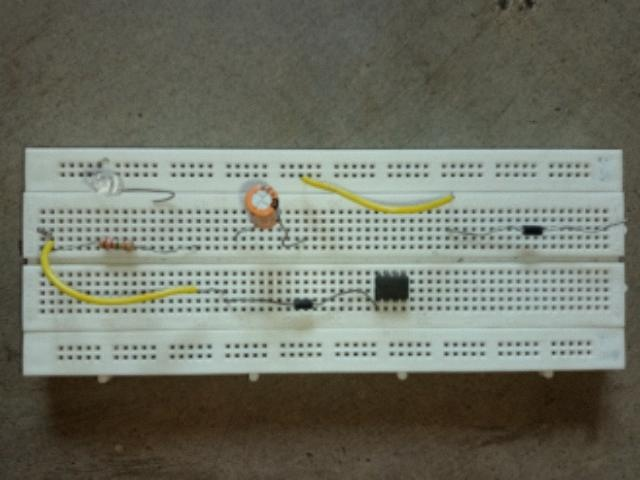capacitor: (244, 184, 281, 230)
resistor: (98, 235, 136, 253)
